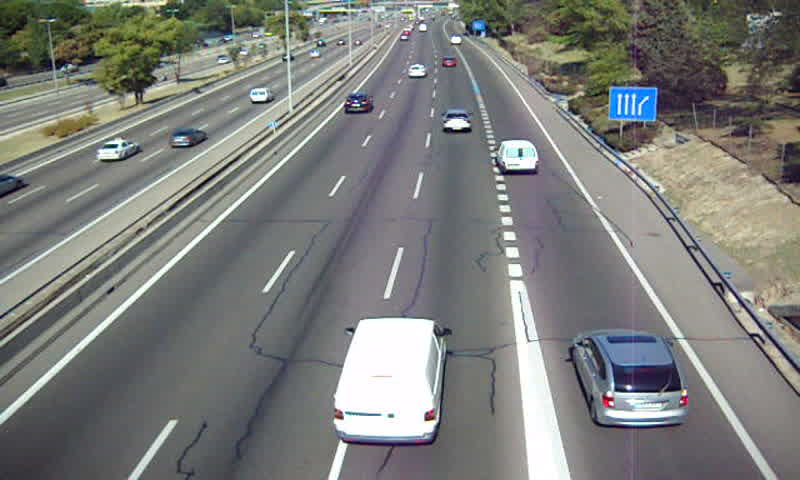car: (573, 332, 688, 425), (443, 109, 472, 134), (343, 92, 372, 114), (407, 62, 426, 79), (442, 56, 458, 68)
van: (333, 319, 445, 445), (496, 141, 537, 173)
